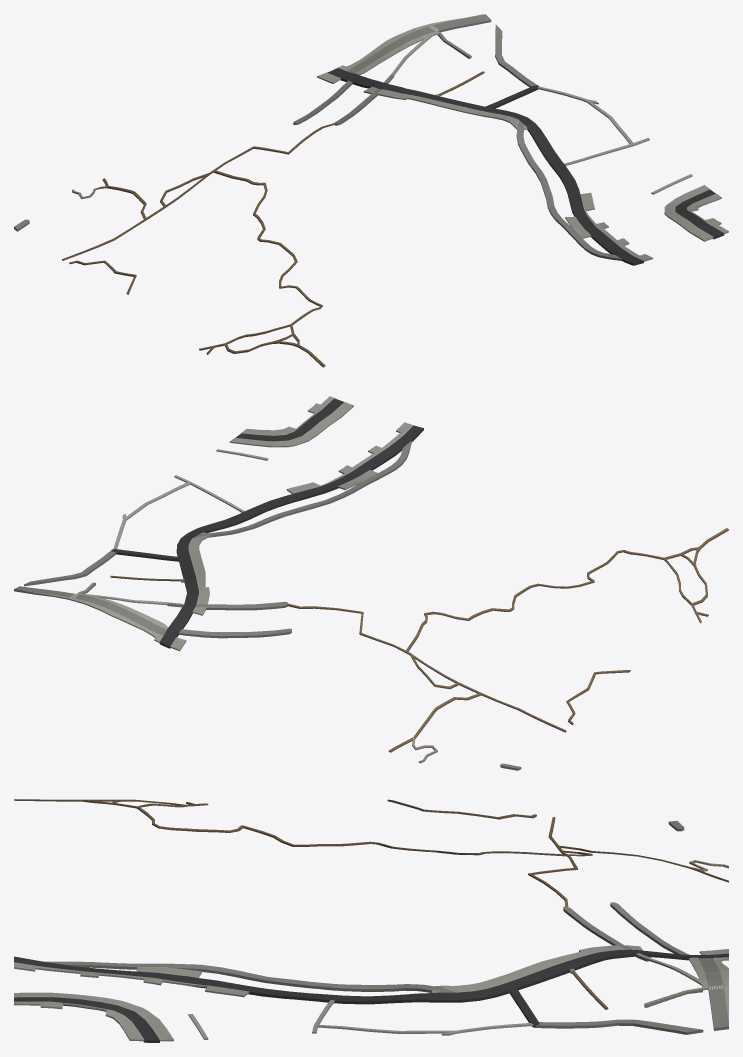
Rendered from 17-109450-59482.ddbfdaeb.glb.
3 renders of one model, top to bottom at view 1: azimuth 30°, elevation 25°; view 2: azimuth 150°, elevation 25°; view 3: azimuth 270°, elevation 25°, orthographic. The views are drawn at different scales.
Size of the model in its own units: 293 by 48.03 by 292.
